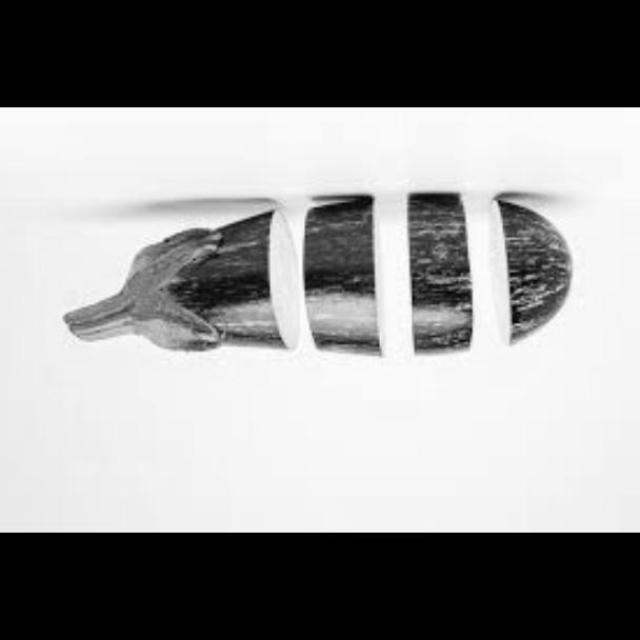eggplant: (64, 200, 589, 360)
